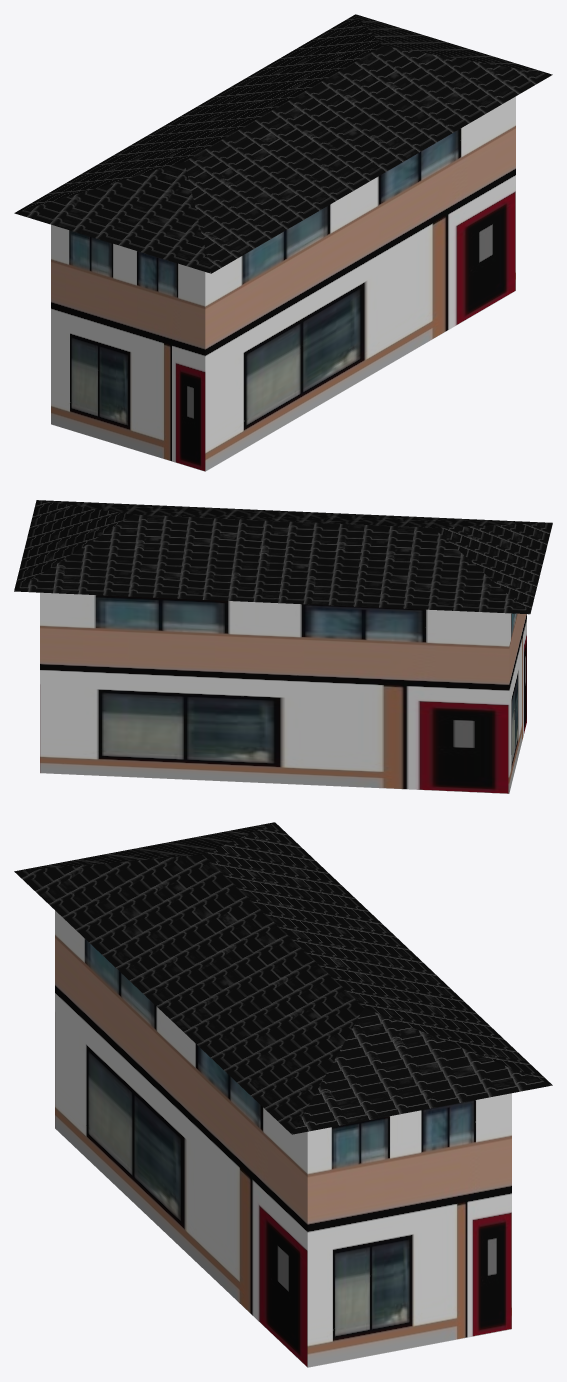
3 views of the same model, one above another, from view 1: azimuth 30°, elevation 25°; view 2: azimuth 150°, elevation 25°; view 3: azimuth 270°, elevation 25° (orthographic). The views are drawn at different scales.
Visible parts, largest first — view 1: CityEngineMaterial_5_m, CityEngineMaterial_14_m; view 2: CityEngineMaterial_5_m, CityEngineMaterial_14_m; view 3: CityEngineMaterial_5_m, CityEngineMaterial_14_m.
Boxes of the visible parts, <box> form: CityEngineMaterial_5_m: <box>51,96,515,471</box>; CityEngineMaterial_14_m: <box>14,14,552,273</box>; CityEngineMaterial_5_m: <box>40,592,526,793</box>; CityEngineMaterial_14_m: <box>14,500,552,614</box>; CityEngineMaterial_5_m: <box>55,910,511,1367</box>; CityEngineMaterial_14_m: <box>14,822,552,1134</box>.
Bounding box in the file's own units: 22.34 × 9.92 × 16.29.
